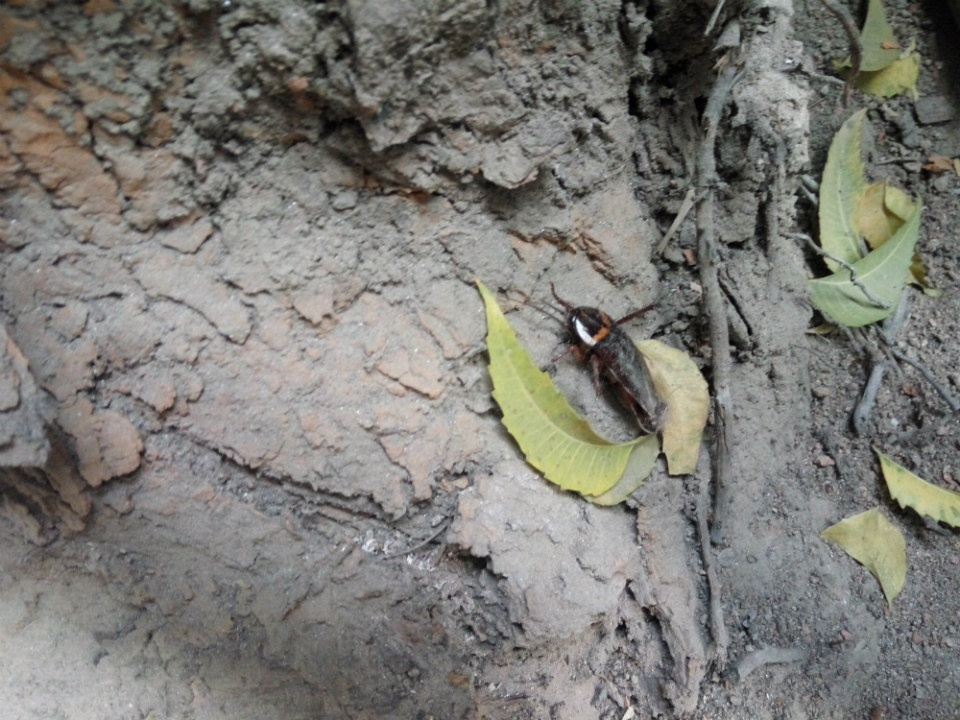cockroach: (499, 263, 700, 455)
